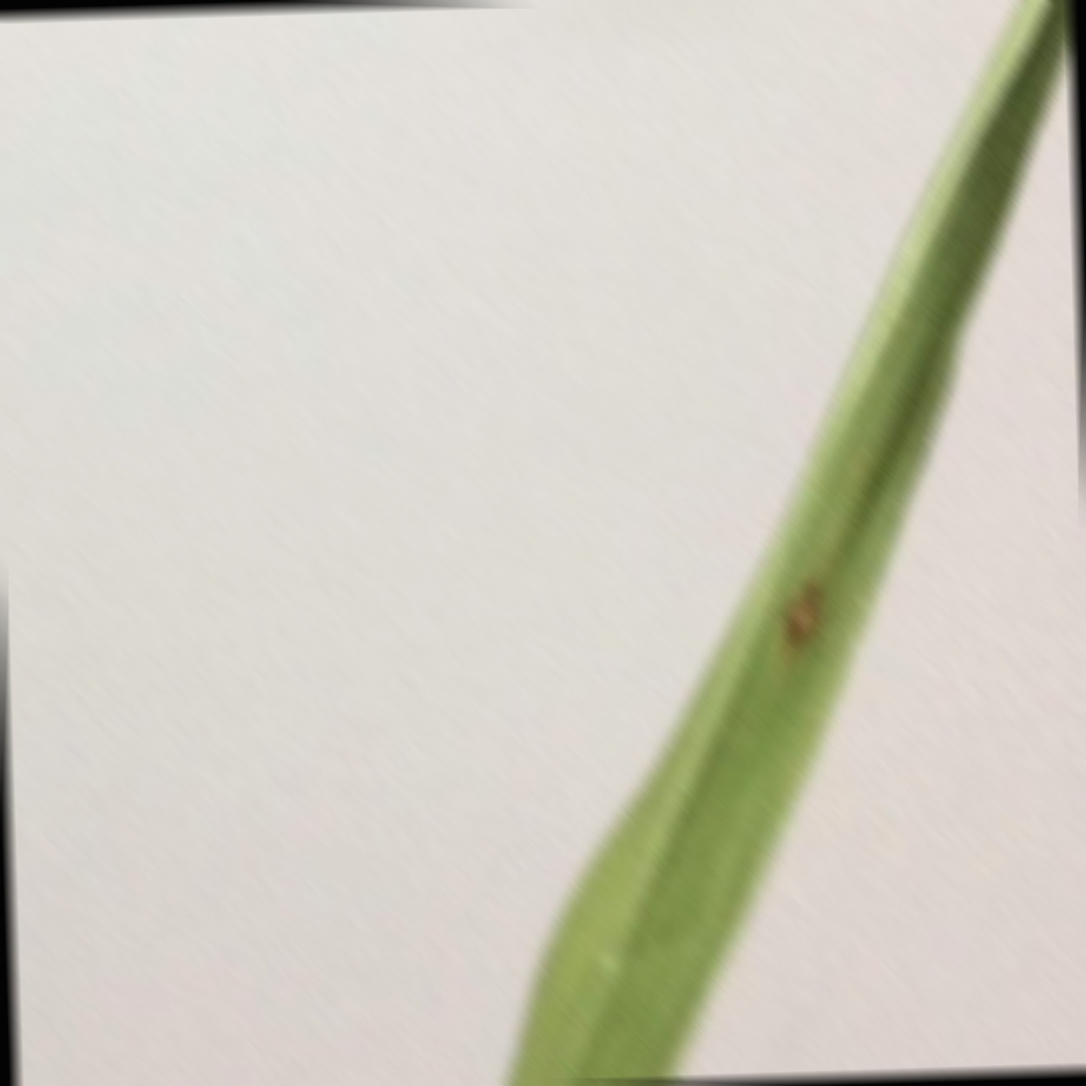Brown_Spot: (772, 527, 842, 660)
